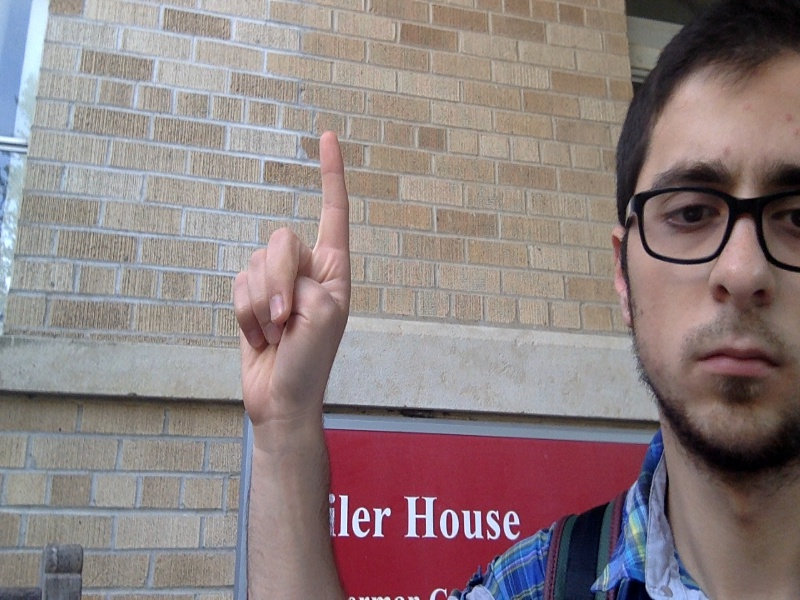1-hand: (232, 132, 353, 424)
